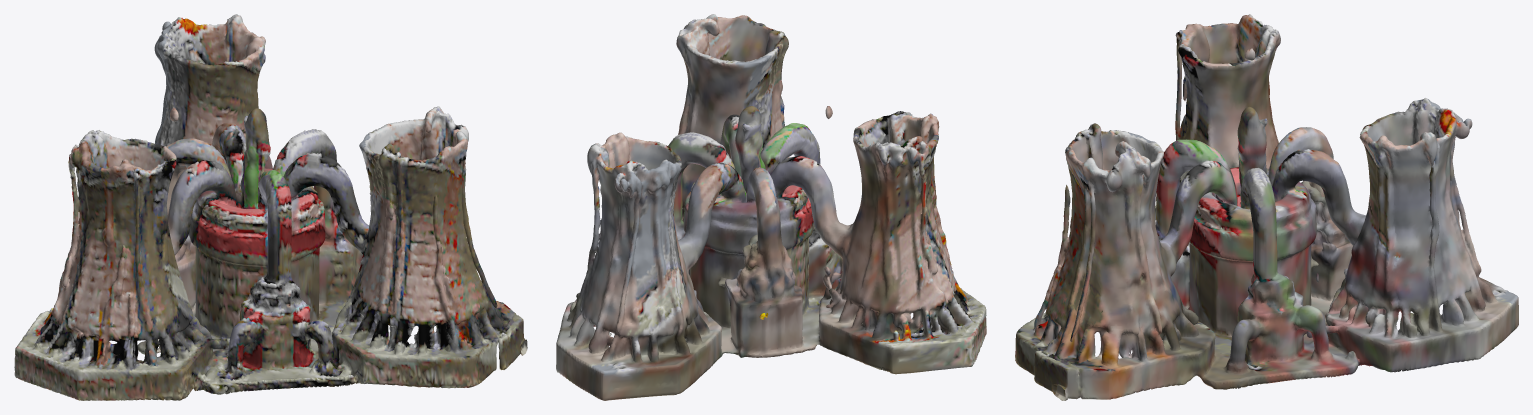
The model's file is soviet_nuclear_reactor.glb.
The picture shows the model from 3 angles, left to right: view 1: azimuth 30°, elevation 25°; view 2: azimuth 150°, elevation 25°; view 3: azimuth 270°, elevation 25°; orthographic projection. The views are drawn at different scales.
Visible parts, largest first — view 1: soviet_nuclear_reactor; view 2: soviet_nuclear_reactor; view 3: soviet_nuclear_reactor.
Boxes of the visible parts, x1=… form: soviet_nuclear_reactor: x1=14, y1=14, x2=527, y2=400; soviet_nuclear_reactor: x1=556, y1=14, x2=986, y2=400; soviet_nuclear_reactor: x1=1015, y1=14, x2=1518, y2=400.
Size of the model in its own units: 2.04 by 1.16 by 2.2.
